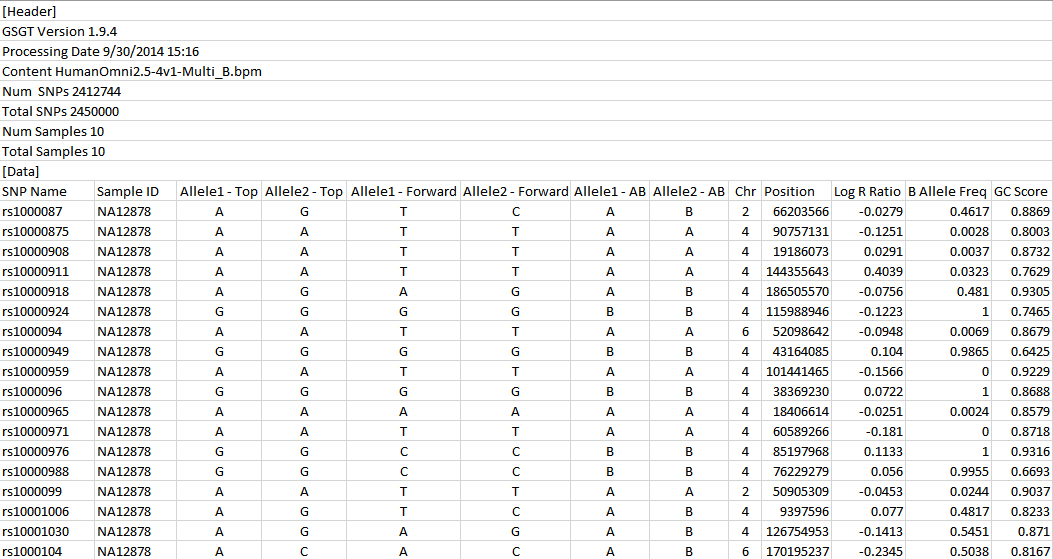table: (1, 181, 1053, 556)
